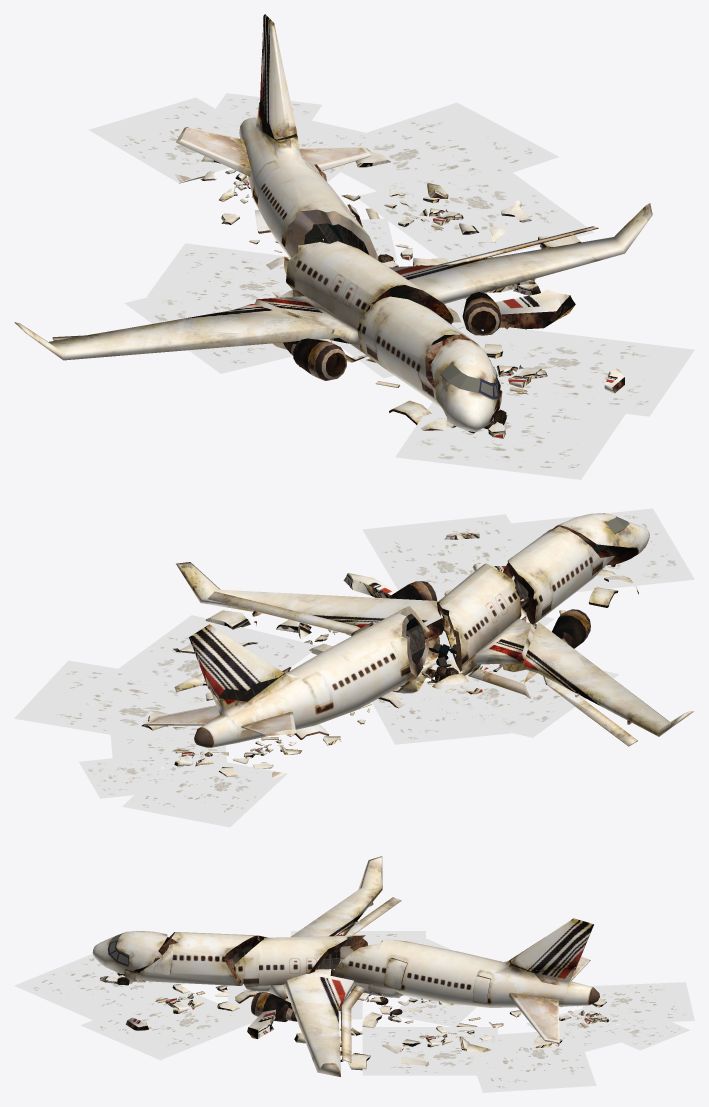
The model's file is OBJ_CrashPlane.FBX.
The picture shows the model from 3 angles, top to bottom: view 1: azimuth 30°, elevation 25°; view 2: azimuth 150°, elevation 25°; view 3: azimuth 270°, elevation 25°; orthographic projection. The views are drawn at different scales.
Visible parts, largest first — view 1: PlaneCrash_01_part03, PlaneCrash_01_part02, PlaneCrash_01_part01; view 2: PlaneCrash_01_part03, PlaneCrash_01_part02, PlaneCrash_01_part01; view 3: PlaneCrash_01_part03, PlaneCrash_01_part01, PlaneCrash_01_part02.
Boxes of the visible parts, bbox=[...] form: PlaneCrash_01_part03: bbox=[89, 14, 593, 274]; PlaneCrash_01_part02: bbox=[14, 203, 652, 380]; PlaneCrash_01_part01: bbox=[357, 289, 694, 479]; PlaneCrash_01_part03: bbox=[14, 606, 439, 827]; PlaneCrash_01_part02: bbox=[176, 562, 693, 746]; PlaneCrash_01_part01: bbox=[343, 508, 694, 624]; PlaneCrash_01_part03: bbox=[330, 918, 694, 1092]; PlaneCrash_01_part01: bbox=[14, 931, 275, 1060]; PlaneCrash_01_part02: bbox=[228, 856, 452, 1076].
Bounding box in the file's own units: 4649 × 6365 × 1125.
